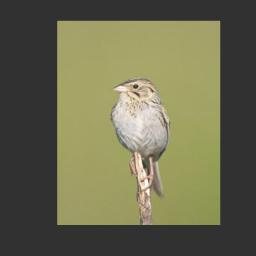Sparrow: (110, 76, 171, 198)
